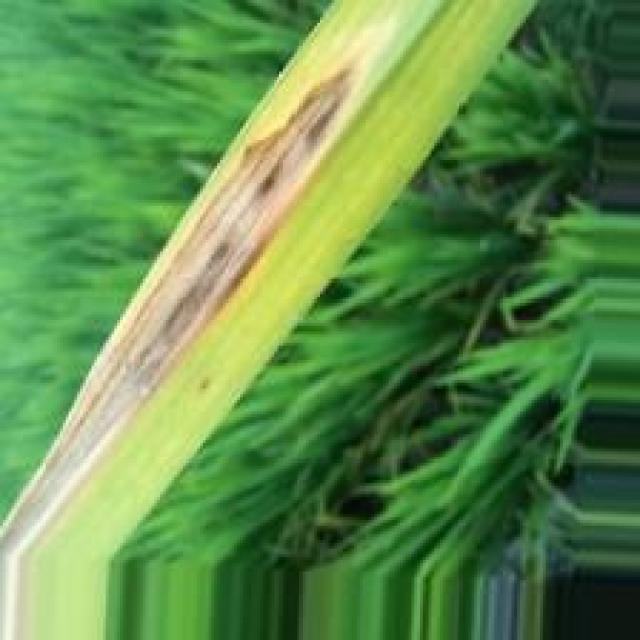Leaf_Scald: (0, 64, 361, 565)
